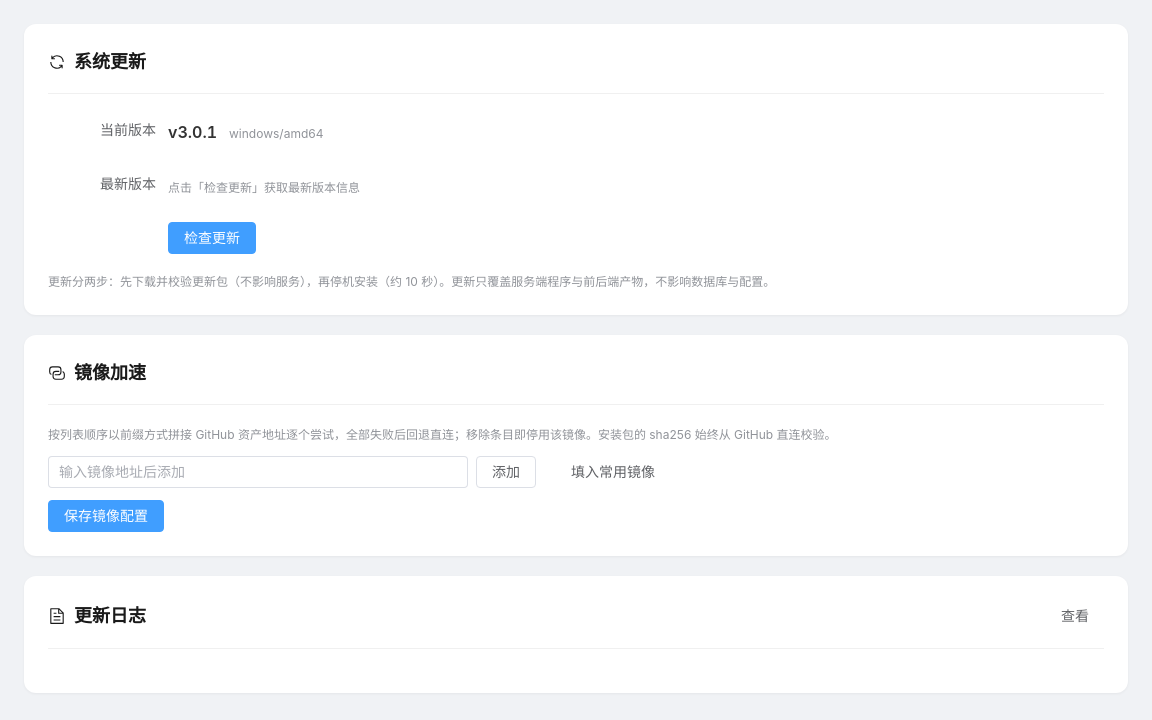
UpdateManage 版本与检查更新 › 检查更新：无更新时最新版本展示为当前版本而非零值
Click the button "检查更新": (212, 238) 168,222 -> 256,254
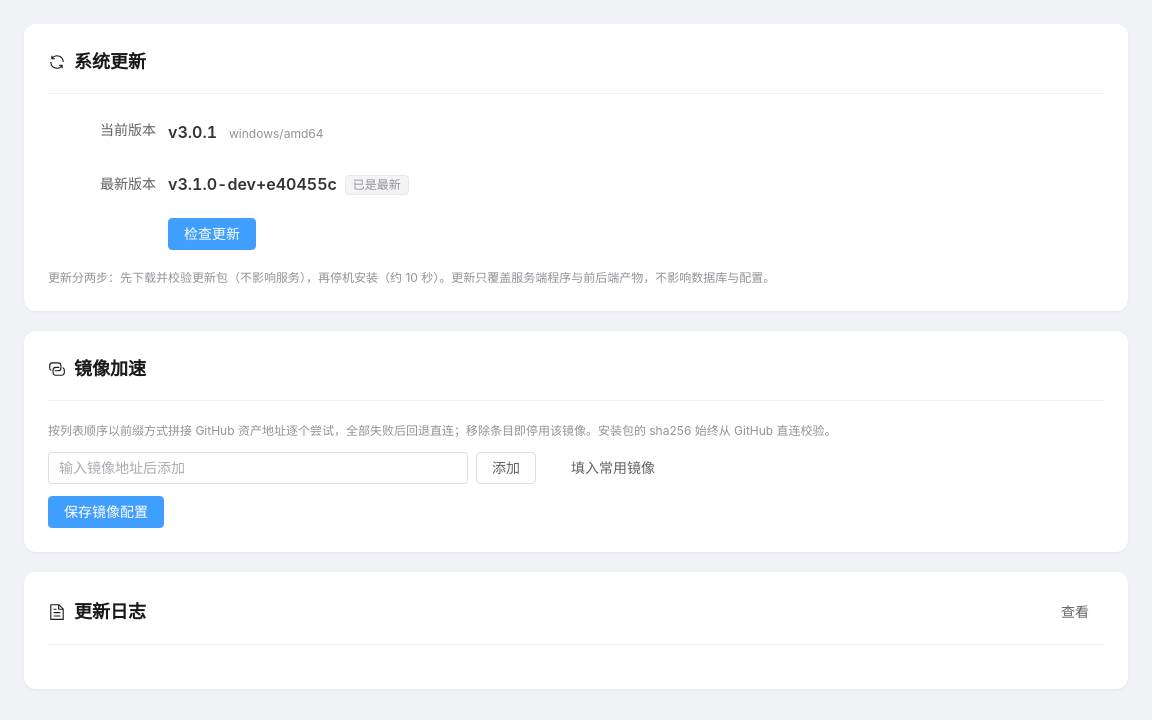
Check: the text "v3.1.0-dev+e40455c" is shown, box 168,168 -> 337,200
